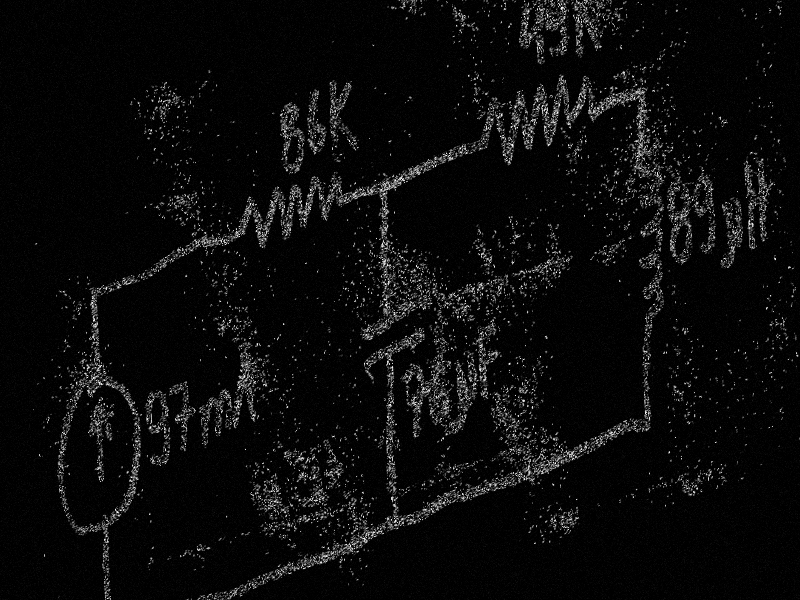4: (517, 0, 548, 74)
6: (426, 342, 452, 430), (304, 84, 328, 159)
7: (398, 354, 431, 445), (167, 372, 199, 460)
8: (664, 173, 696, 274), (277, 97, 308, 182)
9: (141, 380, 174, 475), (690, 169, 720, 263), (544, 0, 571, 69)
A: (228, 340, 259, 432)
F: (474, 315, 501, 400)
H: (741, 152, 770, 254)
k: (326, 70, 361, 169), (570, 0, 603, 63)
m: (197, 386, 234, 447)
u: (449, 348, 480, 437), (716, 193, 745, 273)
